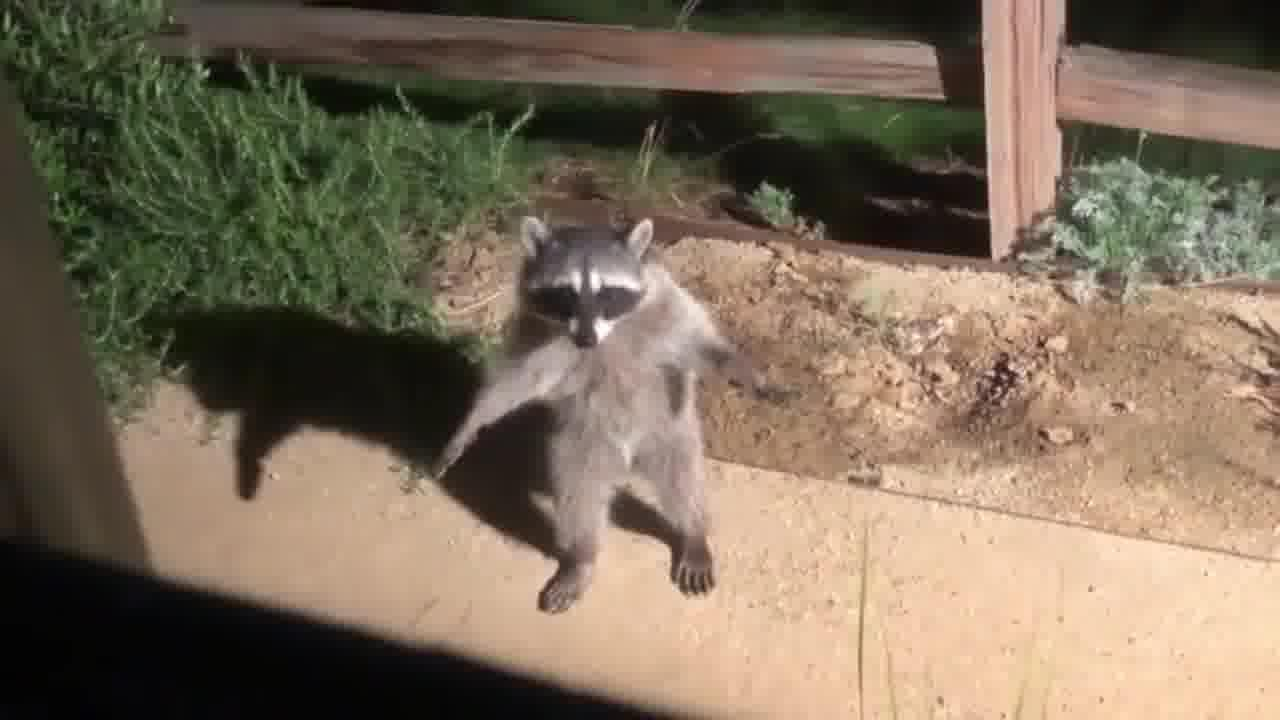raccoon: (431, 215, 801, 615)
